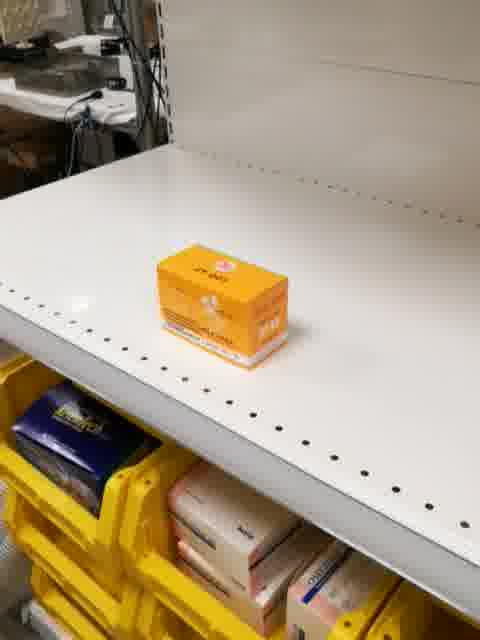jasminetea: (154, 240, 289, 371)
